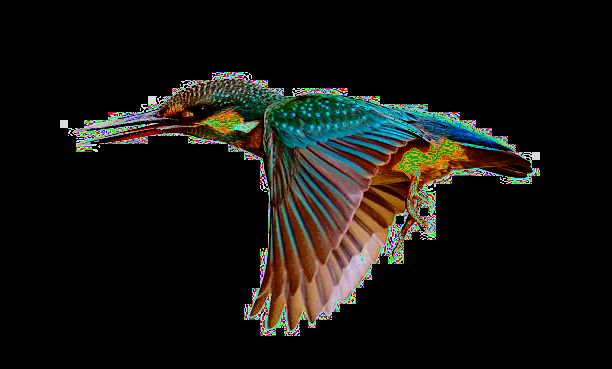Bird: (71, 73, 544, 333)
